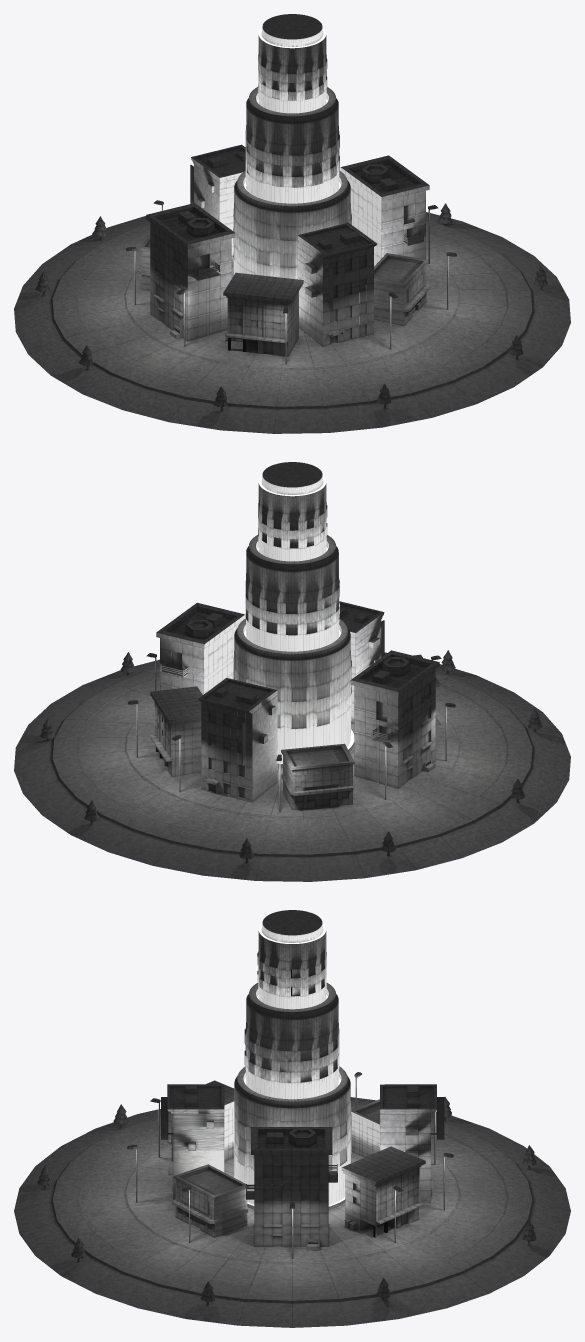
The model's file is centreville.glb.
3 renders of one model, top to bottom at view 1: azimuth 30°, elevation 25°; view 2: azimuth 150°, elevation 25°; view 3: azimuth 270°, elevation 25°, orthographic.
Parts seen in each view (by area): view 1: appartement; view 2: appartement; view 3: appartement.
Boxes of the visible parts, bbox=[...] form: appartement: bbox=[14, 14, 570, 433]; appartement: bbox=[14, 462, 570, 881]; appartement: bbox=[14, 910, 570, 1327].
Size of the model in its own units: 74.75 by 42.84 by 74.75.
2 materials, 2 textured.
